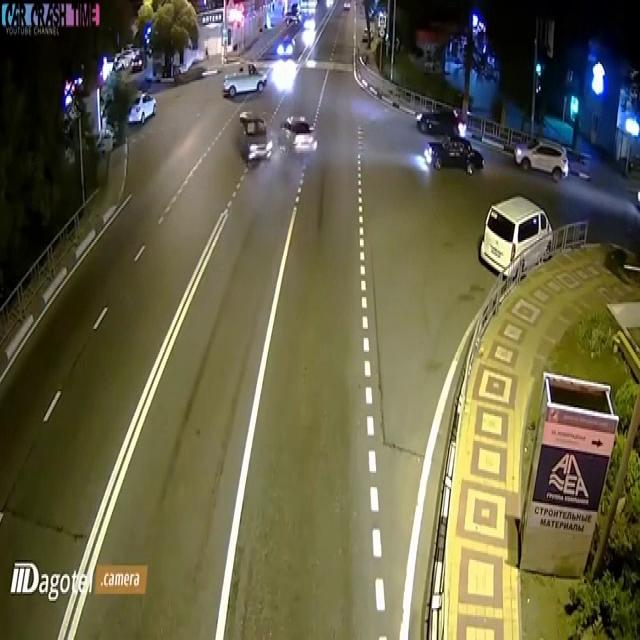accident: (233, 92, 324, 199)
